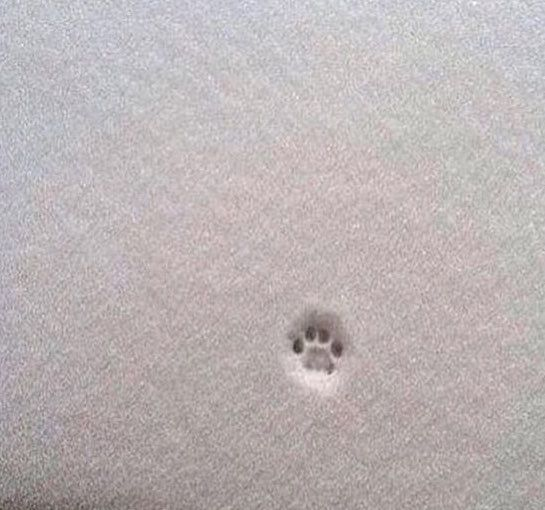cat: (280, 320, 348, 381)
